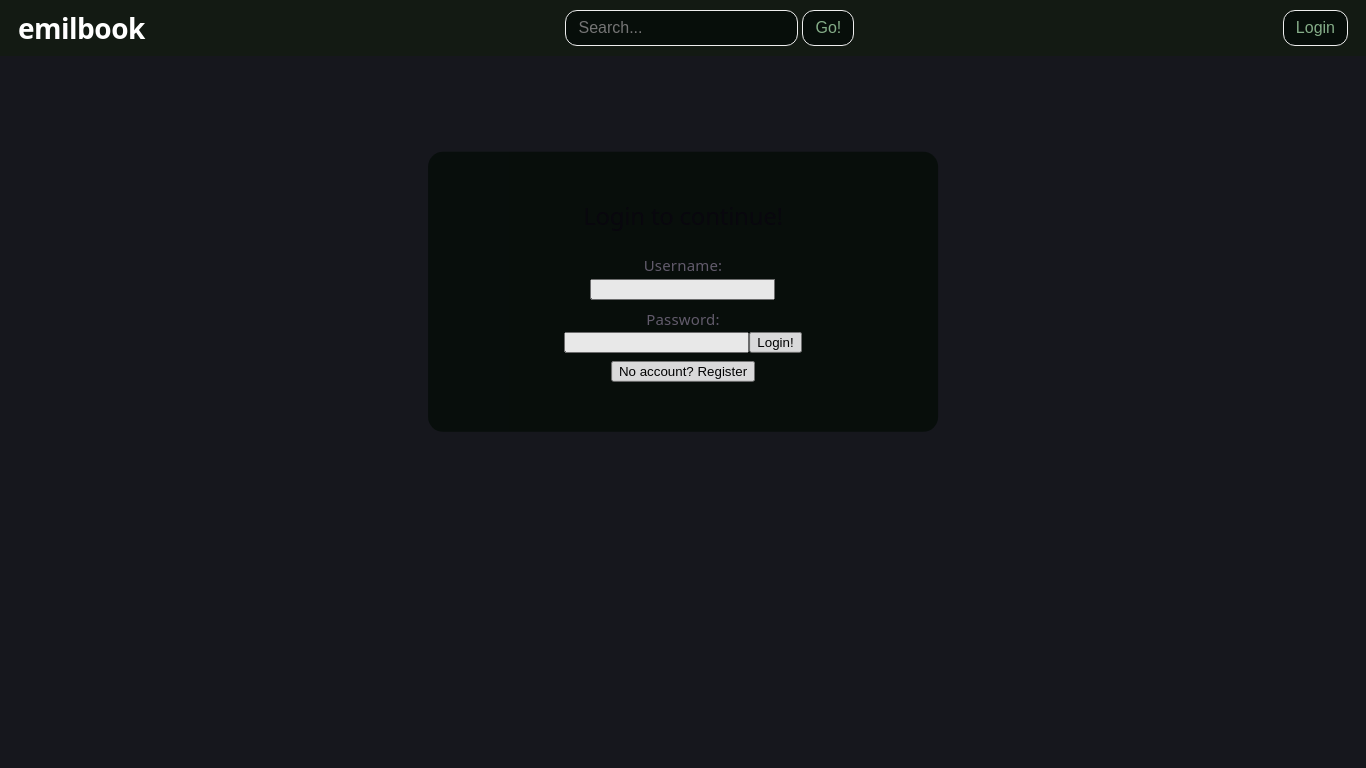
Test: Login › visar felmeddelande vid felaktiga uppgifter
The image size is (1366, 768).
In the field with id "username": [684, 290] box left=591, top=279, right=776, bottom=300, type "wronguser"
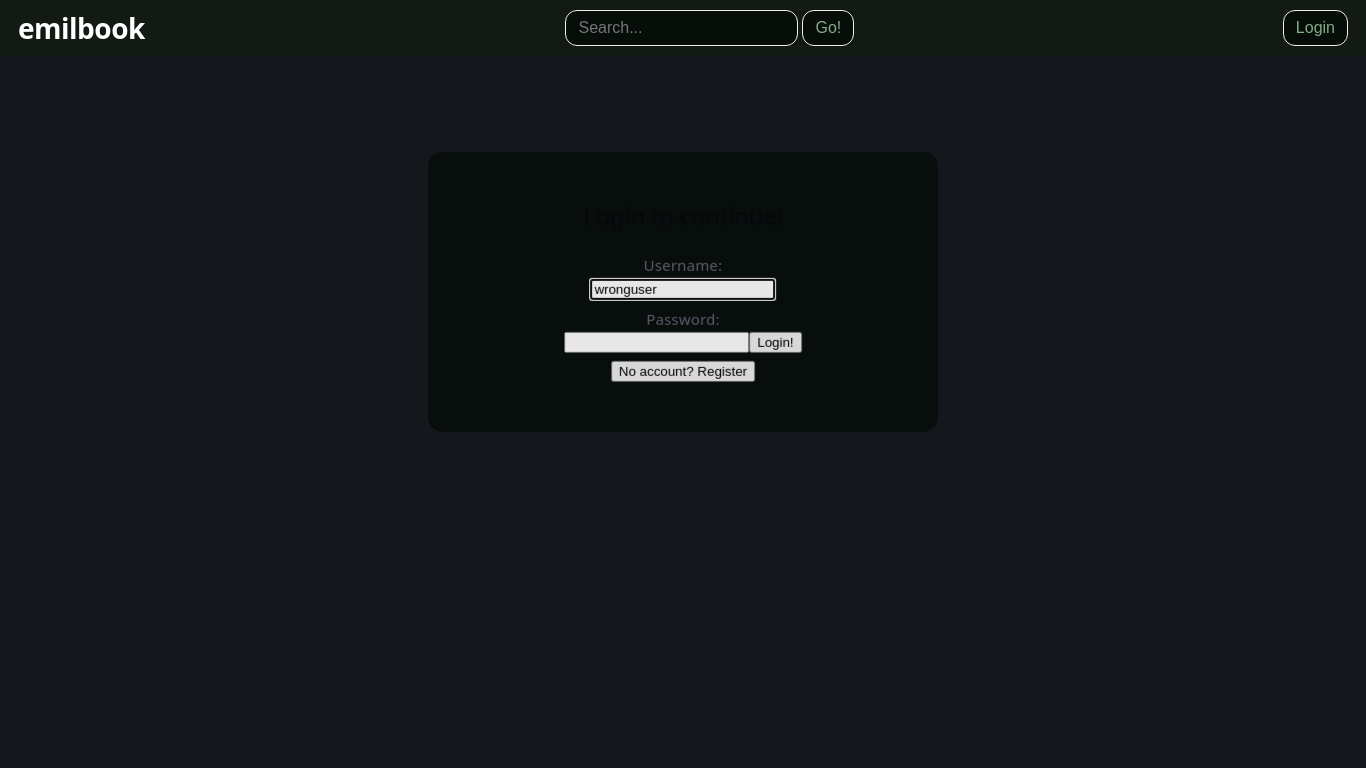
In the password field labelled "Password:": [657, 343] box left=564, top=332, right=749, bottom=353, type "wrongpass"
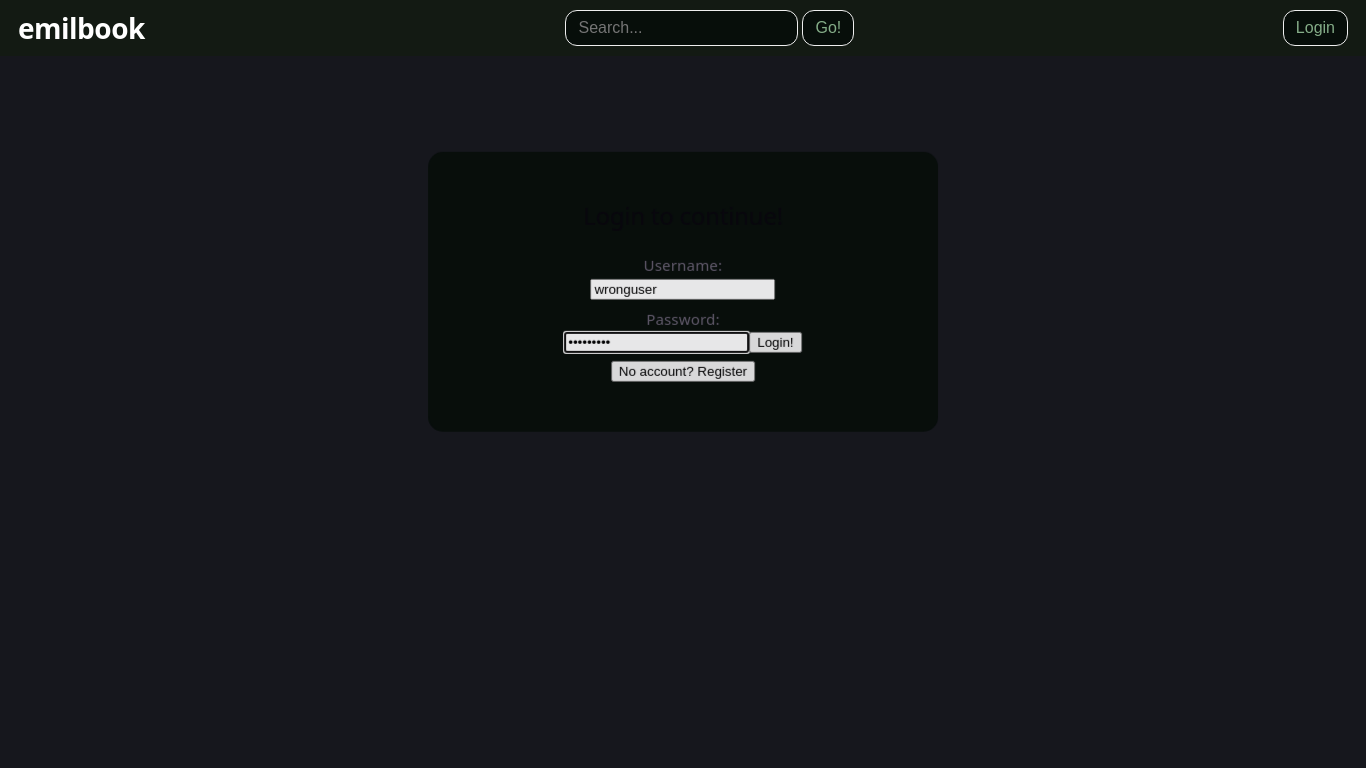
Click the button with class "submit-button": [775, 343] box left=749, top=332, right=801, bottom=353
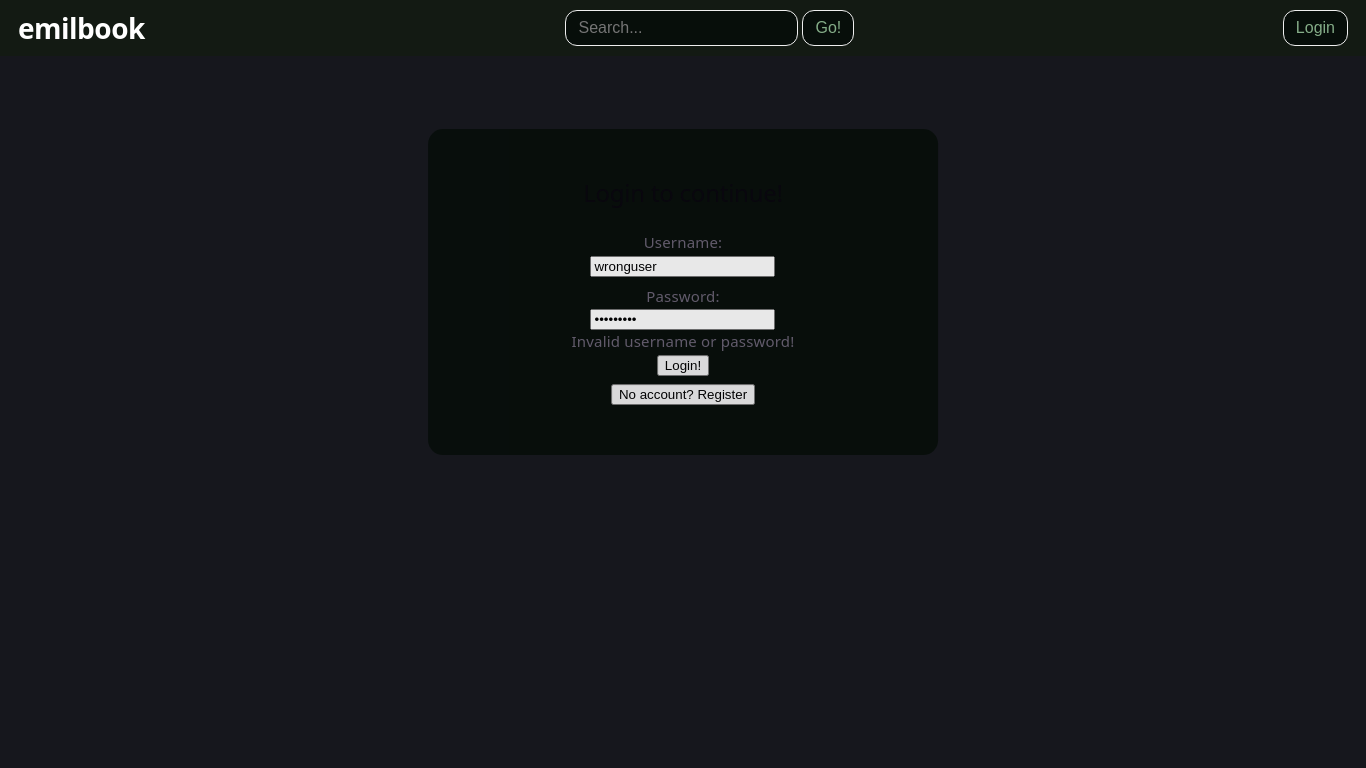
Expected: the text with class "error-message" reads "Invalid username or password!", left=572, top=331, right=795, bottom=351
